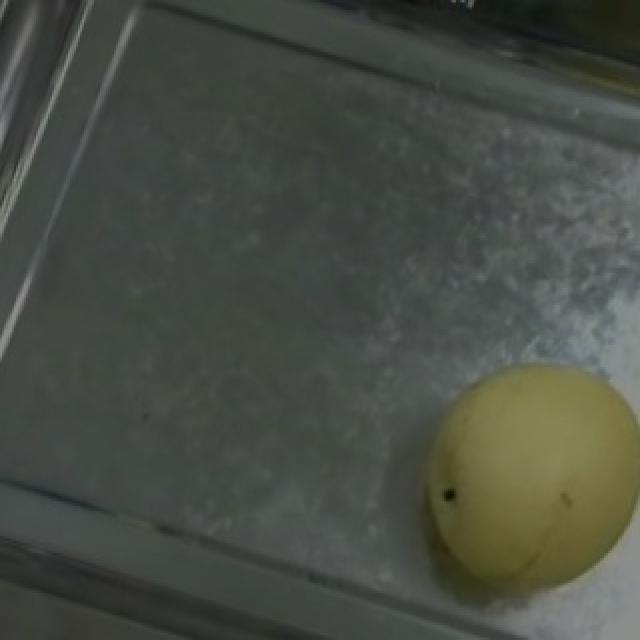Fruit: (374, 323, 640, 635)
